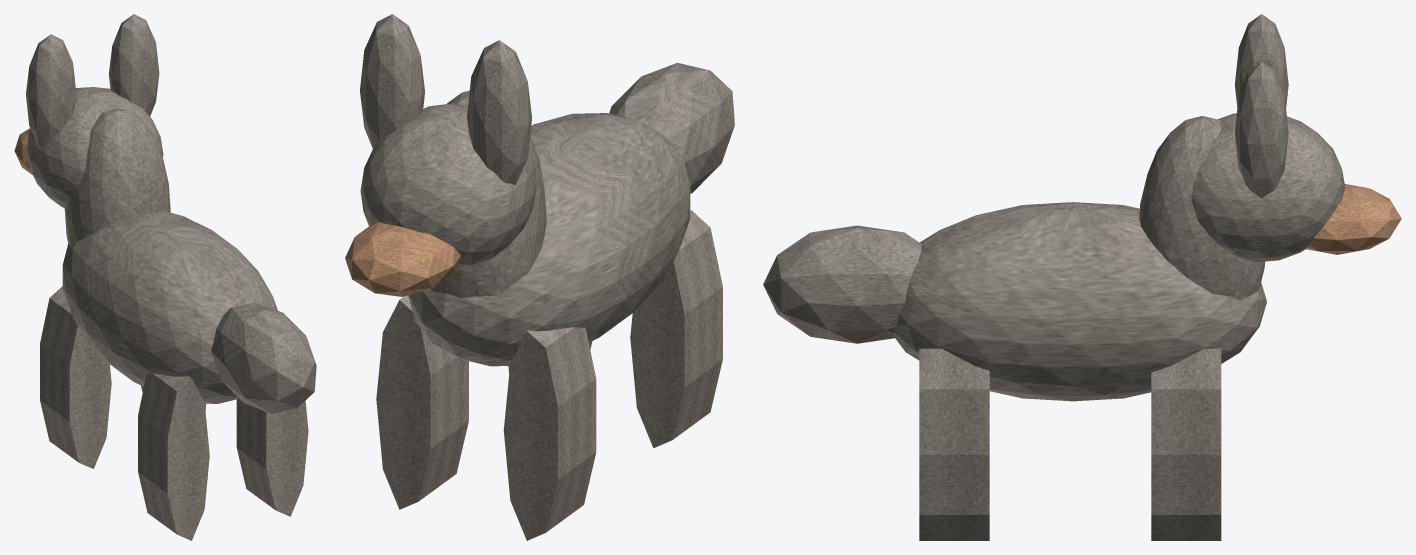
Rendered from wildlight_rabbit_textured.glb.
3 renders of one model, left to right at view 1: azimuth 30°, elevation 25°; view 2: azimuth 150°, elevation 25°; view 3: azimuth 270°, elevation 25°, orthographic. The views are drawn at different scales.
Visible parts, largest first — view 1: torso, leg-10.44, neck, leg-1-0.42, tail, leg10.44, head, ear-1, ear1, muzzle; view 2: torso, head, leg-1-0.42, leg-10.44, leg1-0.42, tail, ear-1, ear1, muzzle, neck; view 3: torso, tail, head, leg10.44, leg1-0.42, neck, ear1, muzzle, ear-1.
Part boxes in pixels (left/top/right/bottom): torso: left=62, top=211, right=277, bottom=403; leg-10.44: left=138, top=373, right=209, bottom=540; neck: left=64, top=108, right=170, bottom=244; leg-1-0.42: left=40, top=286, right=111, bottom=468; tail: left=211, top=302, right=316, bottom=413; leg10.44: left=236, top=399, right=308, bottom=516; head: left=26, top=87, right=163, bottom=207; ear-1: left=26, top=34, right=76, bottom=146; ear1: left=108, top=14, right=159, bottom=116; muzzle: left=14, top=128, right=32, bottom=174; torso: left=408, top=113, right=690, bottom=366; head: left=360, top=104, right=537, bottom=270; leg-1-0.42: left=503, top=327, right=596, bottom=540; leg-10.44: left=630, top=210, right=722, bottom=448; leg1-0.42: left=376, top=295, right=468, bottom=509; tail: left=609, top=62, right=734, bottom=193; ear-1: left=467, top=40, right=531, bottom=184; ear1: left=360, top=14, right=424, bottom=148; muzzle: left=345, top=221, right=460, bottom=296; neck: left=431, top=90, right=546, bottom=297; torso: left=893, top=202, right=1266, bottom=401; tail: left=763, top=225, right=921, bottom=343; head: left=1191, top=113, right=1345, bottom=262; leg10.44: left=919, top=348, right=989, bottom=540; leg1-0.42: left=1151, top=348, right=1221, bottom=540; neck: left=1139, top=116, right=1264, bottom=300; ear1: left=1234, top=62, right=1288, bottom=198; muzzle: left=1306, top=184, right=1401, bottom=254; ear-1: left=1234, top=14, right=1288, bottom=107.
Bounding box in the file's own units: 0.76 × 1.93 × 2.37.
2 materials, 2 textured.
